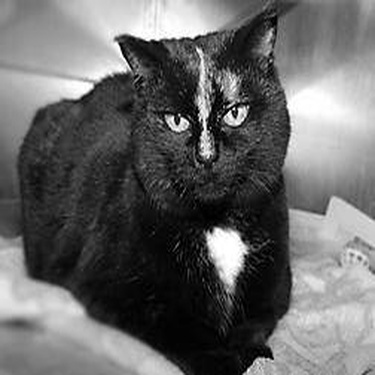cat: (16, 2, 301, 372)
